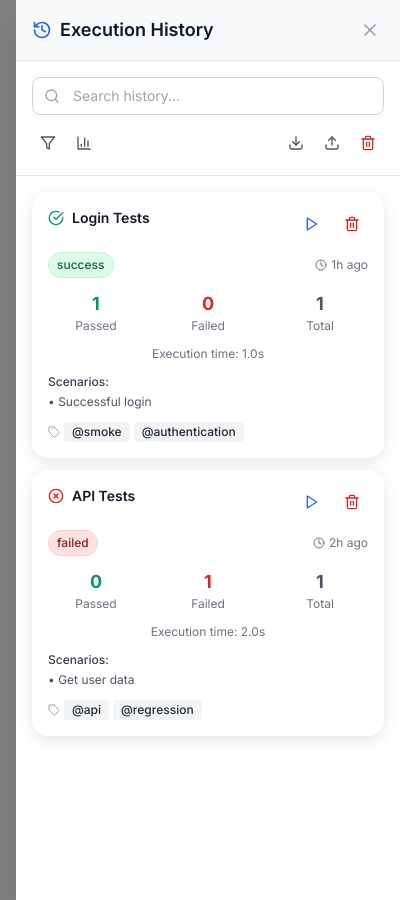
Scenario: HistoryPanel › Control buttons › should toggle statistics panel
The image size is (400, 900).
Step 1. Click the button titled "Statistics" → (84, 143), box left=68, top=127, right=100, bottom=159
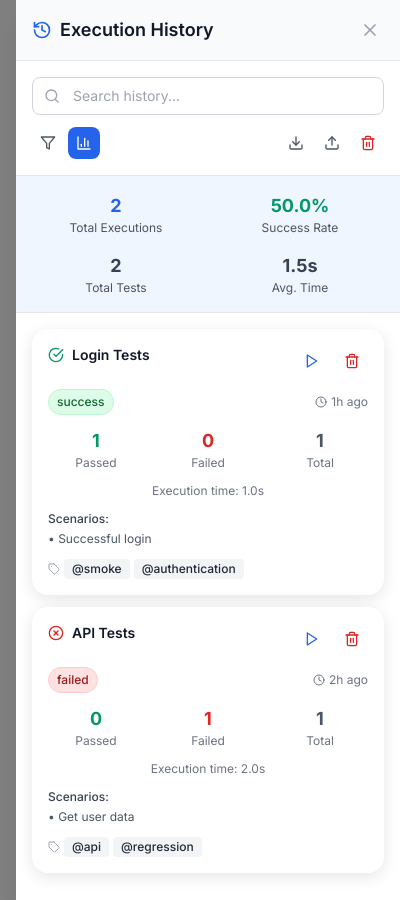
Result: the text "Total Executions" is shown at left=70, top=220, right=162, bottom=235
Result: the 1st text "2" is shown at left=110, top=195, right=122, bottom=216
Result: the text "50.0%" is shown at left=271, top=195, right=329, bottom=216
